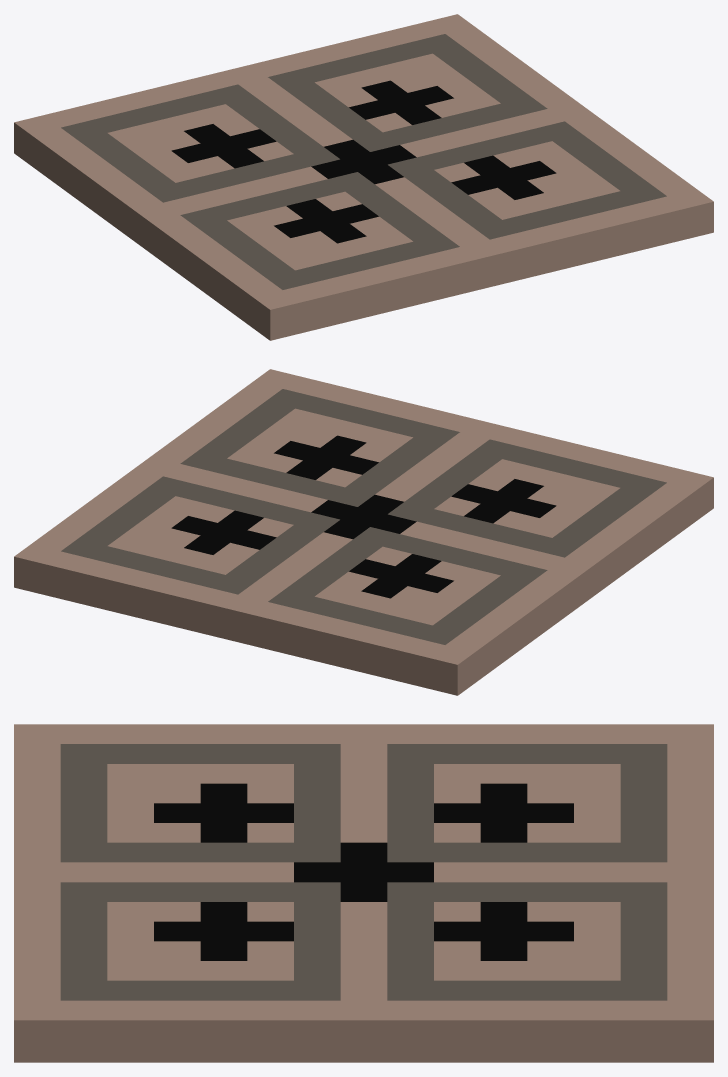
File: dungeon_a_b_ground_c_b.obj
3 renders of one model, top to bottom at view 1: azimuth 30°, elevation 25°; view 2: azimuth 150°, elevation 25°; view 3: azimuth 270°, elevation 25°, orthographic. The views are drawn at different scales.
Bounding box in the file's own units: 1.5 × 0.1 × 1.5.
1 material, 1 textured.
